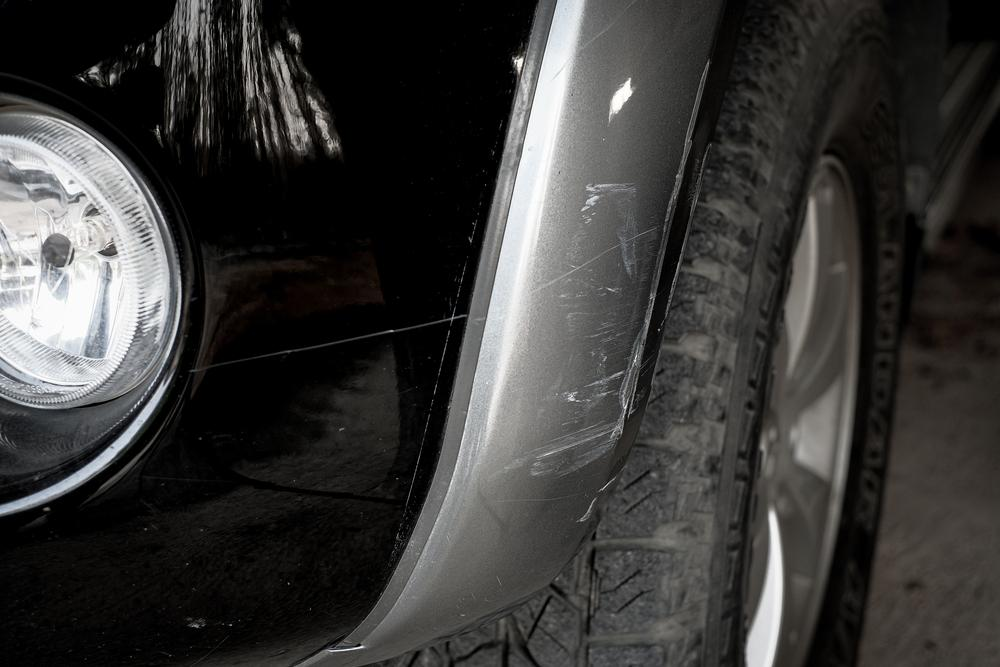scratch: (521, 170, 662, 486)
